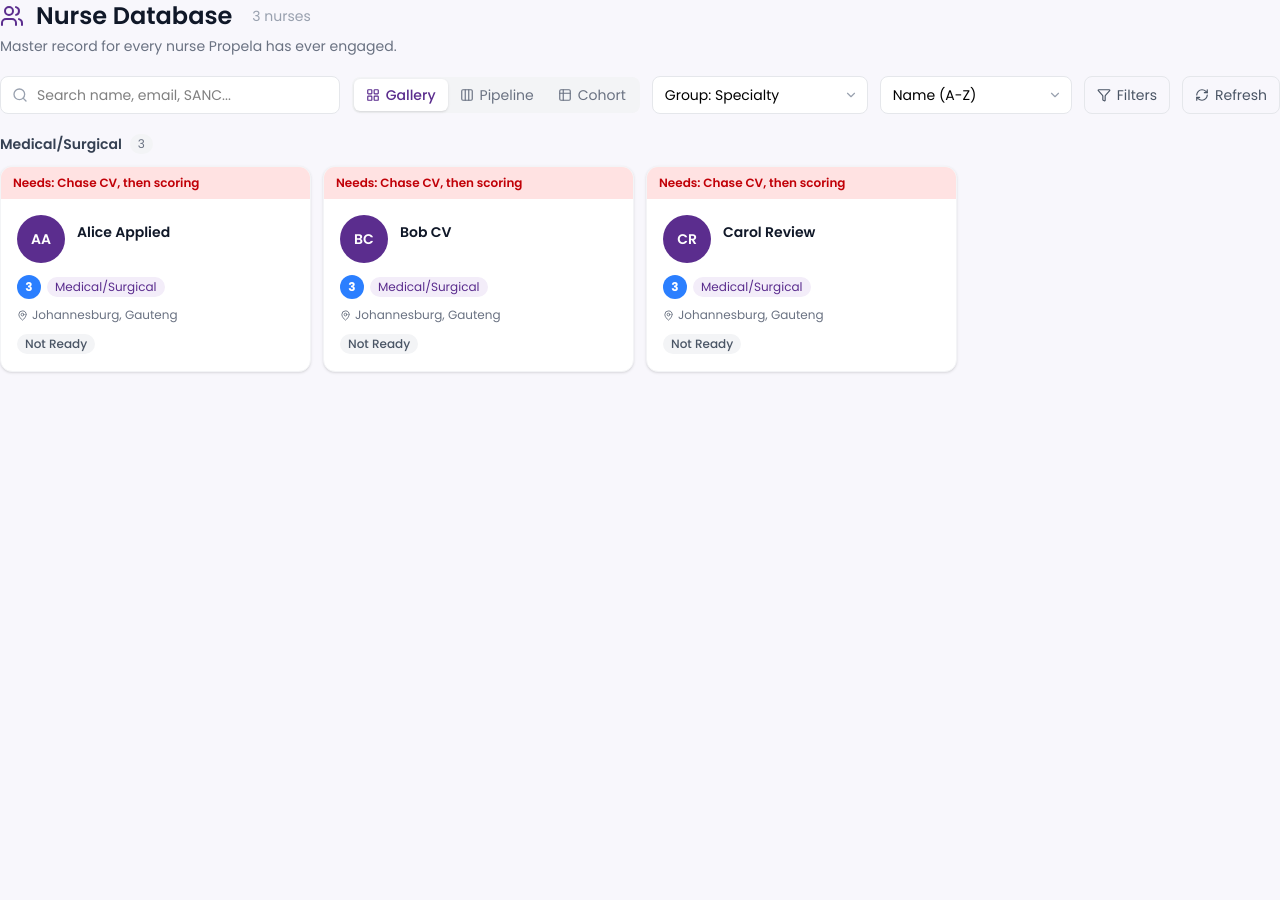
Test case: Filter and search integration tests › Nurse filter by pipeline stage › filters nurses by pipeline stage selection
expect the text "Alice Applied" is shown: met, box left=77, top=222, right=170, bottom=242
expect the text "Bob CV" is shown: met, box left=400, top=222, right=452, bottom=242
Open filters
What coordinates should you click on to do the following:
click the button "Filters"
I would click on:
 (1127, 95)
Its box is left=1084, top=76, right=1170, bottom=114.
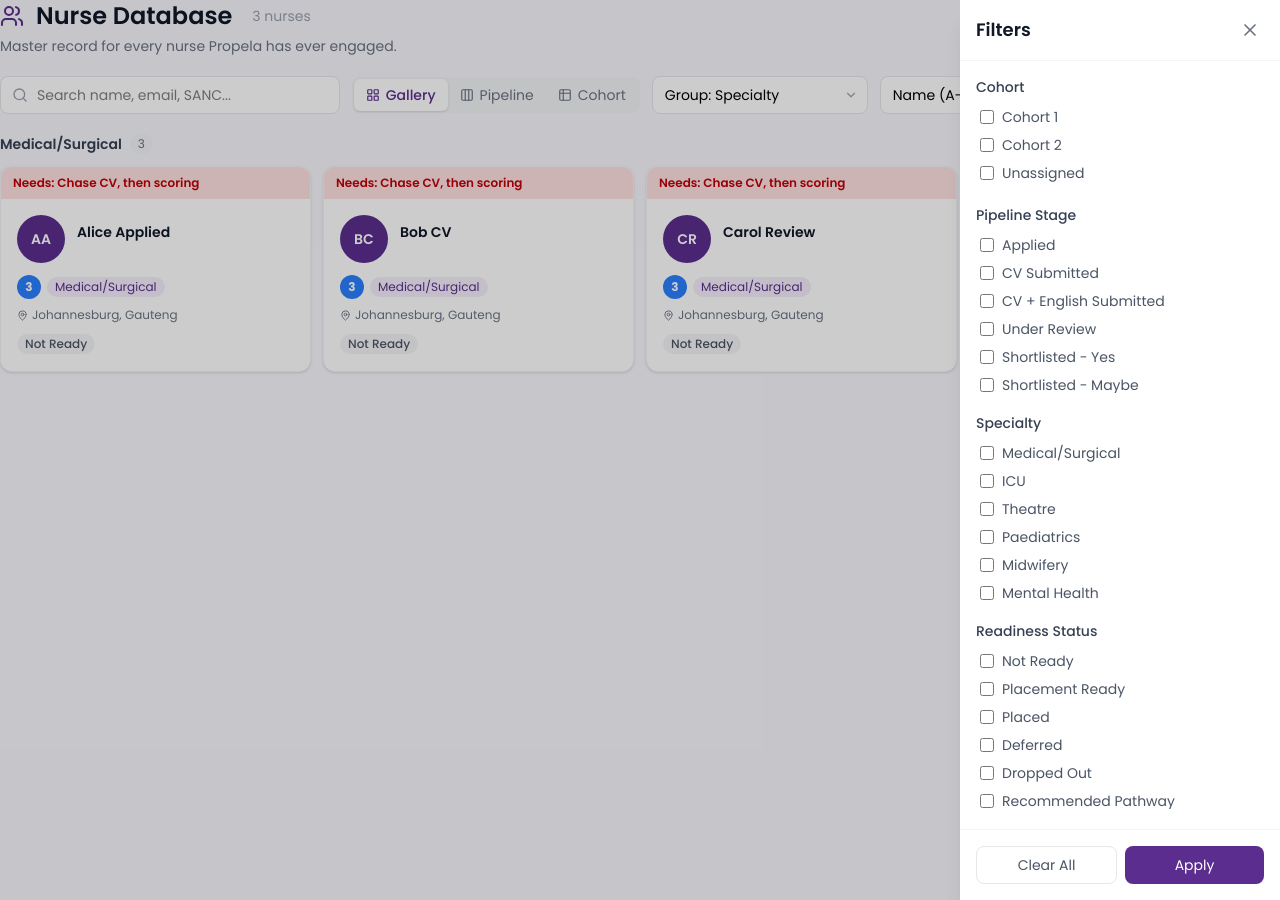
expect the heading "Pipeline Stage" is shown: met, box left=976, top=205, right=1076, bottom=225
Select "CV Submitted" checkbox in the Pipeline Stage section
What coordinates should you click on to do the following:
click the checkbox labelled "CV Submitted"
I would click on:
 (987, 273)
Its box is left=980, top=266, right=994, bottom=280.
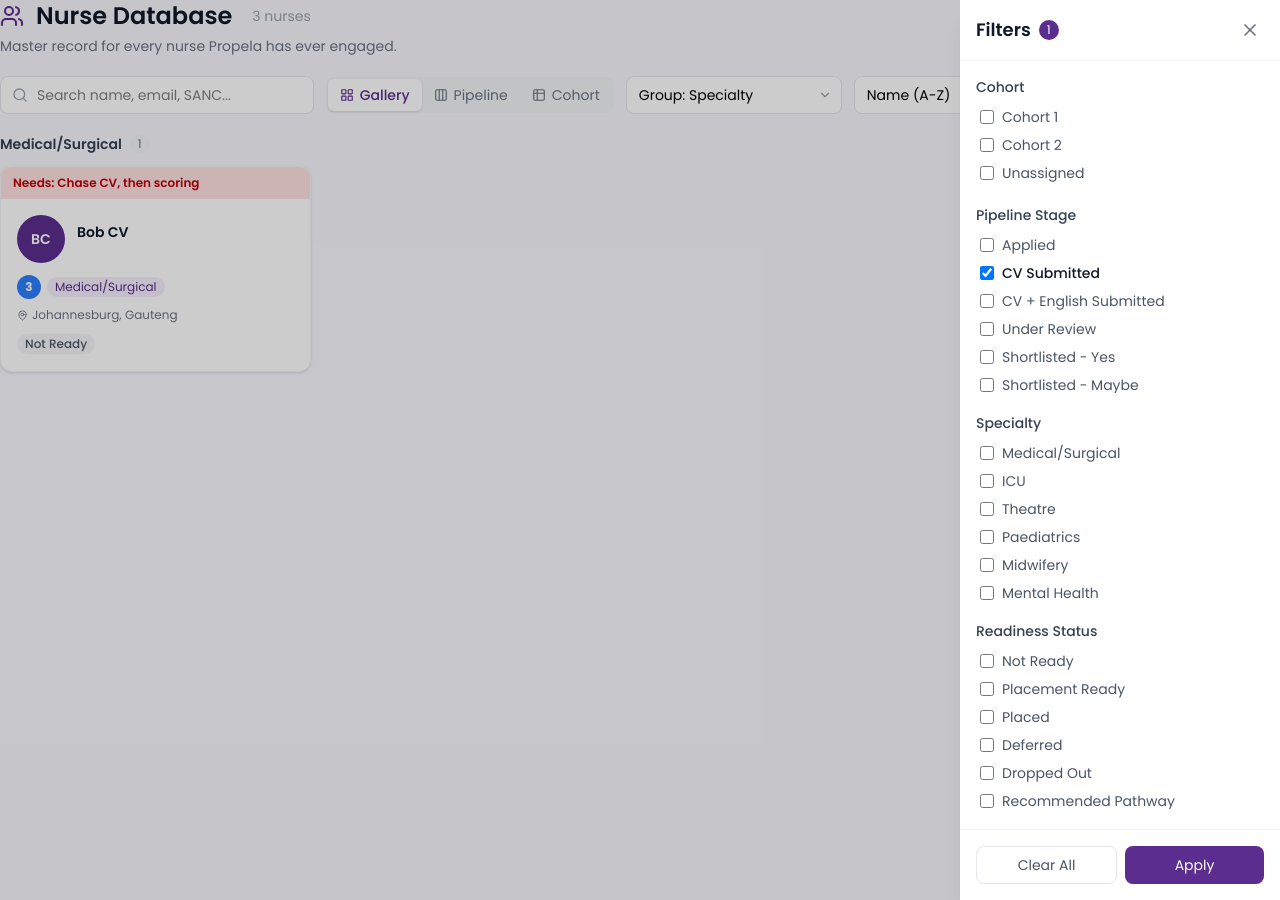
expect the text "Bob CV" is shown: met, box left=77, top=222, right=128, bottom=242
expect the text "Alice Applied" is gone: met
expect the text "Carol Review" is gone: met
